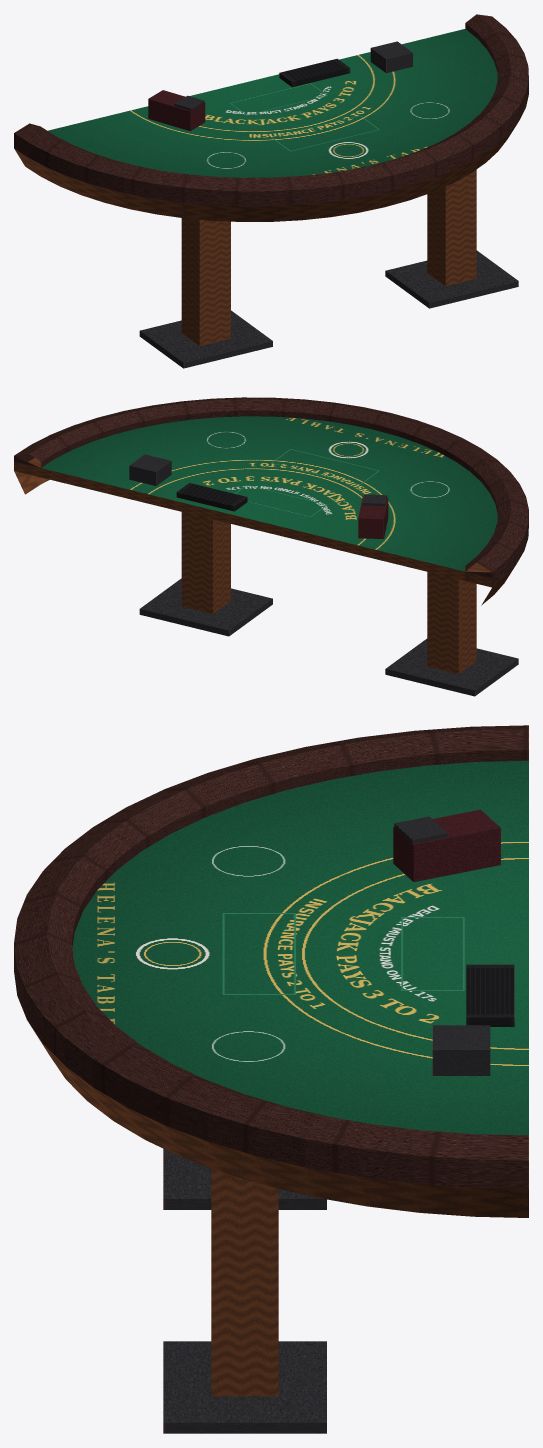
The model's file is SM_BlackjackTable.fbx.
3 renders of one model, top to bottom at view 1: azimuth 30°, elevation 25°; view 2: azimuth 150°, elevation 25°; view 3: azimuth 270°, elevation 25°, orthographic. The views are drawn at different scales.
Parts seen in each view (by area): view 1: SM_BlackjackTable, Shoe; view 2: SM_BlackjackTable, Shoe; view 3: SM_BlackjackTable, Shoe.
Part boxes in pixels (x1=…): SM_BlackjackTable: x1=14, y1=14, x2=528, y2=368; Shoe: x1=148, y1=90, x2=205, y2=131; SM_BlackjackTable: x1=14, y1=397, x2=528, y2=696; Shoe: x1=358, y1=494, x2=388, y2=539; SM_BlackjackTable: x1=14, y1=725, x2=528, y2=1433; Shoe: x1=393, y1=809, x2=500, y2=881.
Bounding box in the file's own units: 2.14 × 0.845 × 1.07.
Materials: 1 (1 with a texture image).
